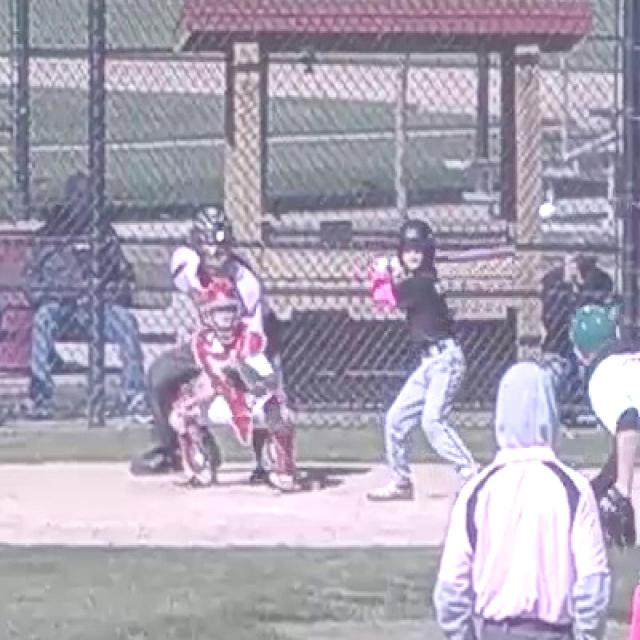baseball: (541, 204, 553, 217)
